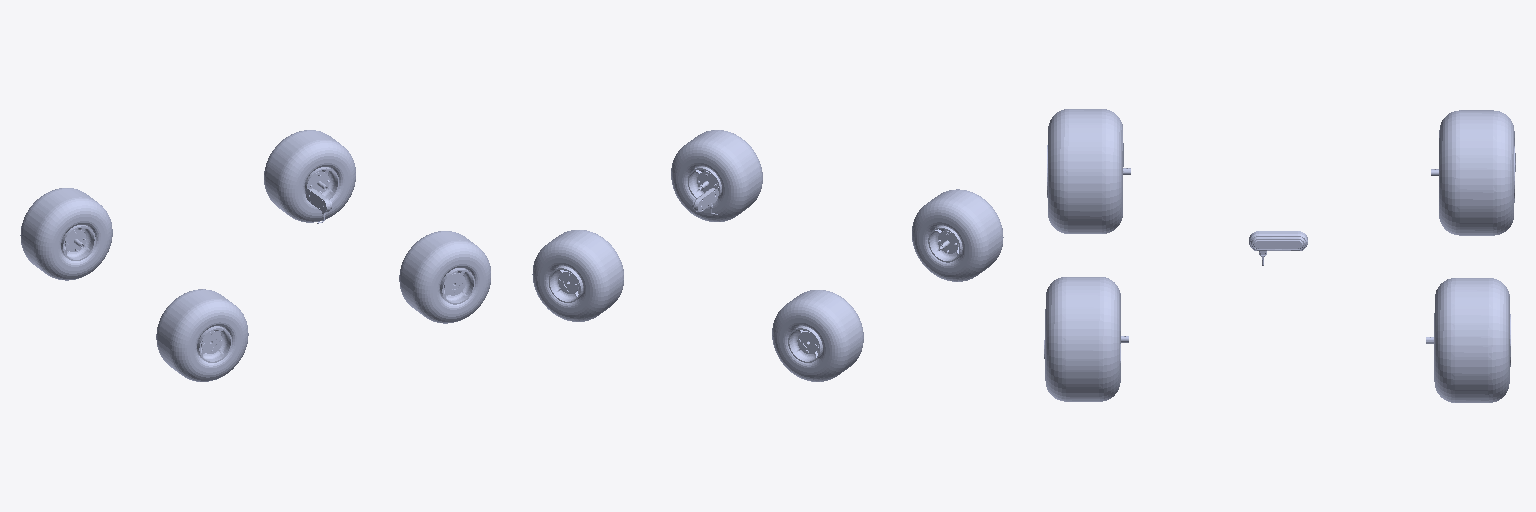
robot.urdf — r24_description:
<?xml version="1.0" encoding="utf-8"?>
<!-- This URDF was automatically created by SolidWorks to URDF Exporter! Originally created by [author] ([email redacted]) 
     Commit Version: 1.6.0-1-g15f4949  Build Version: 1.6.7594.29634
     For more information, please see http://wiki.ros.org/sw_urdf_exporter -->
<robot name="r24_description">

  <link name="base_link">
    <inertial>
      <origin
        xyz="-0.064437631392306 -0.0451760636997012 0.00855220087790583"
        rpy="0 0 0" />
      <mass
        value="24.7846622807205" />
      <inertia
        ixx="2.6528733745583"
        ixy="0.0799812958011684"
        ixz="0.0190933937240297"
        iyy="4.7916536369371"
        iyz="-0.0859829287168919"
        izz="3.23043029634489" />
    </inertial>
    <visual>
      <origin
        xyz="0 0 0"
        rpy="0 0 0" />
      <geometry>
        <mesh
          filename="package://r24_description/meshes/base_link.STL" />
      </geometry>
      <material
        name="">
        <color
          rgba="0.792156862745098 0.819607843137255 0.933333333333333 1" />
      </material>
    </visual>
    <collision>
      <origin
        xyz="0 0 0"
        rpy="0 0 0" />
      <geometry>
        <mesh
          filename="package://r24_description/meshes/base_link.STL" />
      </geometry>
    </collision>
  </link>

  <!-- Robot Footprint-->
  <link name="base_footprint"/>
  
  <joint name="base_joint" type="fixed">
    <parent link="base_link"/>
    <child link="base_footprint"/>
    <origin xyz="0 0 0" rpy="0 0 0"/>
  </joint>

<!-- Front left wheel -->
  <link
    name="front_left_link">
    <inertial>
      <origin
        xyz="0.359648861194319 0.126200419176023 0.500186369051321"
        rpy="0 0 0" />
      <mass
        value="24.7846622807205" />
      <inertia
        ixx="3.23005139607727"
        ixy="-0.0866803912437066"
        ixz="-0.0241505815812914"
        iyy="4.79165363693711"
        iyz="-0.0792248791894818"
        izz="2.65325227482591" />
    </inertial>
    <visual>
      <origin
        xyz="0 0 0"
        rpy="0 0 0" />
      <geometry>
        <mesh
          filename="package://r24_description/meshes/front_left_link.STL" />
      </geometry>
      <material
        name="">
        <color
          rgba="0.792156862745098 0.819607843137255 0.933333333333333 1" />
      </material>
    </visual>
    <collision>
      <origin
        xyz="0 0 0"
        rpy="0 0 0" />
      <geometry>
        <mesh
          filename="package://r24_description/meshes/front_left_link.STL" />
      </geometry>
    </collision>
  </link>
  <joint
    name="front_left_joint"
    type="continuous">
    <origin
      xyz="0.43888 0.3467 -0.17138"
      rpy="1.5708 0 -1.5796" />
    <parent
      link="base_link" />
    <child
      link="front_left_link" />
    <axis
      xyz="-1 0 0" />
  </joint>

<!-- Fron right wheel -->
  <link
    name="front_right_link">
    <inertial>
      <origin
        xyz="0.352160455575592 0.126200419178019 -0.501222296359285"
        rpy="0 0 0" />
      <mass
        value="24.7846622807205" />
      <inertia
        ixx="3.23004894924541"
        ixy="0.0866844020678713"
        ixz="-0.0241797831916957"
        iyy="4.7916536369371"
        iyz="0.079220490700978"
        izz="2.65325472165778" />
    </inertial>
    <visual>
      <origin
        xyz="0 0 0"
        rpy="0 0 0" />
      <geometry>
        <mesh
          filename="package://r24_description/meshes/front_right_link.STL" />
      </geometry>
      <material
        name="">
        <color
          rgba="0.792156862745098 0.819607843137255 0.933333333333333 1" />
      </material>
    </visual>
    <collision>
      <origin
        xyz="0 0 0"
        rpy="0 0 0" />
      <geometry>
        <mesh
          filename="package://r24_description/meshes/front_right_link.STL" />
      </geometry>
    </collision>
  </link>
  <joint
    name="front_right_joint"
    type="continuous">
    <origin
      xyz="0.43366 -0.36512 -0.17138"
      rpy="1.5708 0 1.562" />
    <parent
      link="base_link" />
    <child
      link="front_right_link" />
    <axis
      xyz="1 0 0" />
  </joint>

<!-- Back left wheel -->
  <link
    name="back_left_link">
    <inertial>
      <origin
        xyz="0.362230161554211 0.126200417296647 -0.448119364911167"
        rpy="0 0 0" />
      <mass
        value="24.7846622807205" />
      <inertia
        ixx="3.23004894924538"
        ixy="-0.0866844020675857"
        ixz="-0.0241797831917133"
        iyy="4.79165363693713"
        iyz="-0.0792204907009766"
        izz="2.65325472165778" />
    </inertial>
    <visual>
      <origin
        xyz="0 0 0"
        rpy="0 0 0" />
      <geometry>
        <mesh
          filename="package://r24_description/meshes/back_left_link.STL" />
      </geometry>
      <material
        name="">
        <color
          rgba="0.792156862745098 0.819607843137255 0.933333333333333 1" />
      </material>
    </visual>
    <collision>
      <origin
        xyz="0 0 0"
        rpy="0 0 0" />
      <geometry>
        <mesh
          filename="package://r24_description/meshes/back_left_link.STL" />
      </geometry>
    </collision>
  </link>
  <joint
    name="back_left_joint"
    type="continuous">
    <origin
      xyz="-0.50935 0.35761 -0.17138"
      rpy="1.5708 0 -1.5796" />
    <parent
      link="base_link" />
    <child
      link="back_left_link" />
    <axis
      xyz="-1 0 0" />
  </joint>

<!-- Back right wheel -->
  <link
    name="back_right_link">
    <inertial>
      <origin
        xyz="0.354852756681686 0.126200417296661 0.448080658530208"
        rpy="0 0 0" />
      <mass
        value="24.7846622807205" />
      <inertia
        ixx="3.23005139607728"
        ixy="0.0866803912438115"
        ixz="-0.0241505815812926"
        iyy="4.7916536369371"
        iyz="0.0792248791894812"
        izz="2.65325227482591" />
    </inertial>
    <visual>
      <origin
        xyz="0 0 0"
        rpy="0 0 0" />
      <geometry>
        <mesh
          filename="package://r24_description/meshes/back_right_link.STL" />
      </geometry>
      <material
        name="">
        <color
          rgba="0.792156862745098 0.819607843137255 0.933333333333333 1" />
      </material>
    </visual>
    <collision>
      <origin
        xyz="0 0 0"
        rpy="0 0 0" />
      <geometry>
        <mesh
          filename="package://r24_description/meshes/back_right_link.STL" />
      </geometry>
    </collision>
  </link>
  <joint
    name="back_right_joint"
    type="continuous">
    <origin
      xyz="-0.51561 -0.35947 -0.17138"
      rpy="1.5708 0 1.562" />
    <parent
      link="base_link" />
    <child
      link="back_right_link" />
    <axis
      xyz="1 0 0" />
  </joint>

<!-- Camera -->
  <link name="camera_link">
    <inertial>
      <origin
        xyz="0.00103219870427068 -0.000992180667516199 -0.0149243051672608"
        rpy="0 0 0" />
      <mass
        value="0.122887330510859" />
      <inertia
        ixx="0.000176516463699131"
        ixy="-1.65346925714814E-06"
        ixz="3.04702026686482E-08"
        iyy="2.26007501698213E-05"
        iyz="2.40974385433716E-07"
        izz="0.000194036222460167" />
    </inertial>
    <visual>
      <origin
        xyz="0 0 0"
        rpy="0 0 0" />
      <geometry>
        <mesh
          filename="package://r24_description/meshes/stereocam_link.STL" />
      </geometry>
      <material
        name="">
        <color
          rgba="0.792156862745098 0.819607843137255 0.933333333333333 1" />
      </material>
    </visual>
    <collision>
      <origin
        xyz="0 0 0"
        rpy="0 0 0" />
      <geometry>
        <mesh
          filename="package://r24_description/meshes/stereocam_link.STL" />
      </geometry>
    </collision>
  </link>
  <joint name="camera_joint" type="fixed">
    <origin
      xyz="0.22359 -0.0073495 -0.019626"
      rpy="0 1.57 0" />
    <parent
      link="base_link" />
    <child
      link="camera_link" />
    <axis
      xyz="0 0 0"/>
  </joint>

<!-- Depth camera -->
<link name="camera_depth_optical_frame"/>

<joint name="camera_depth_joint" type="fixed">
  <origin xyz="0 0 0" rpy="0 0 -1.57"/>
  <parent link="camera_link"/>
  <child link="camera_depth_optical_frame"/>
</joint>

<!-- Depth camera Gazebo plugin -->
<gazebo reference="camera_link">
  <sensor name="depth_camera" type="depth">
    <visualize>true</visualize>
    <update_rate>30.0</update_rate>
    <camera name="camera">
      <horizontal_fov>1.047198</horizontal_fov>
      <image>
        <width>640</width>
        <height>480</height>
        <format>R8G8B8</format>
      </image>
      <clip>
        <near>0.05</near>
        <far>3</far>
      </clip>
    </camera>
    <plugin name="depth_camera_controller" filename="libgazebo_ros_camera.so">
      <baseline>0.2</baseline>
      <alwaysOn>true</alwaysOn>
      <updateRate>0.0</updateRate>
      <frame_name>camera_depth_frame</frame_name>
      <pointCloudCutoff>0.5</pointCloudCutoff>
      <pointCloudCutoffMax>3.0</pointCloudCutoffMax>
      <distortionK1>0</distortionK1>
      <distortionK2>0</distortionK2>
      <distortionK3>0</distortionK3>
      <distortionT1>0</distortionT1>
      <distortionT2>0</distortionT2>
      <CxPrime>0</CxPrime>
      <Cx>0</Cx>
      <Cy>0</Cy>
      <focalLength>0</focalLength>
      <hackBaseline>0</hackBaseline>
    </plugin>
  </sensor>
</gazebo>

  <!-- <link name="camera_imu_optical_frame"/>
  <joint name="imu_camera_joint" type="fixed">
    <parent link="camera_link"/>
    <child link="camera_imu_optical_frame"/>
  </joint> -->
  <link name="laser"/>
  <joint name="lidar_joint" type="fixed">
  <parent link="base_link"/>
  <child link="laser"/>
  <origin xyz="0 0 0.12" rpy="0 0 0"/>
</joint>
</robot>

--- Facts derived from the render (not from the file) ---
Views: 3 orthographic renders of the robot side by side, from view 1: azimuth 30°, elevation 25°; view 2: azimuth 150°, elevation 25°; view 3: azimuth 270°, elevation 25°.
Robot: r24_description — 9 links, 8 joints (4 continuous, 4 fixed); root link base_link; default pose: all joints at 0.
Visible links, largest first — view 1: back_left_link, front_right_link, back_right_link, front_left_link; view 2: back_left_link, back_right_link, front_left_link, front_right_link; view 3: front_left_link, back_left_link, front_right_link, back_right_link, camera_link.
Link boxes in pixels (box(x1,y1,x2,y2)): back_left_link: box(20, 188, 112, 280); front_right_link: box(399, 231, 490, 323); back_right_link: box(156, 289, 248, 381); front_left_link: box(264, 130, 355, 222); back_left_link: box(772, 290, 863, 381); back_right_link: box(912, 189, 1003, 281); front_left_link: box(532, 230, 623, 321); front_right_link: box(671, 130, 762, 221); front_left_link: box(1426, 278, 1510, 402); back_left_link: box(1431, 110, 1515, 235); front_right_link: box(1044, 277, 1128, 401); back_right_link: box(1047, 109, 1130, 233); camera_link: box(1249, 231, 1307, 265).
Size in the robot's own frame: 1.26 by 1.13 by 0.325 metres.
Meshes: 6 distinct files referenced, 5 mesh visuals loaded (5 binary STL); not drawn: 1 (reference not matched to a file when rendering).
